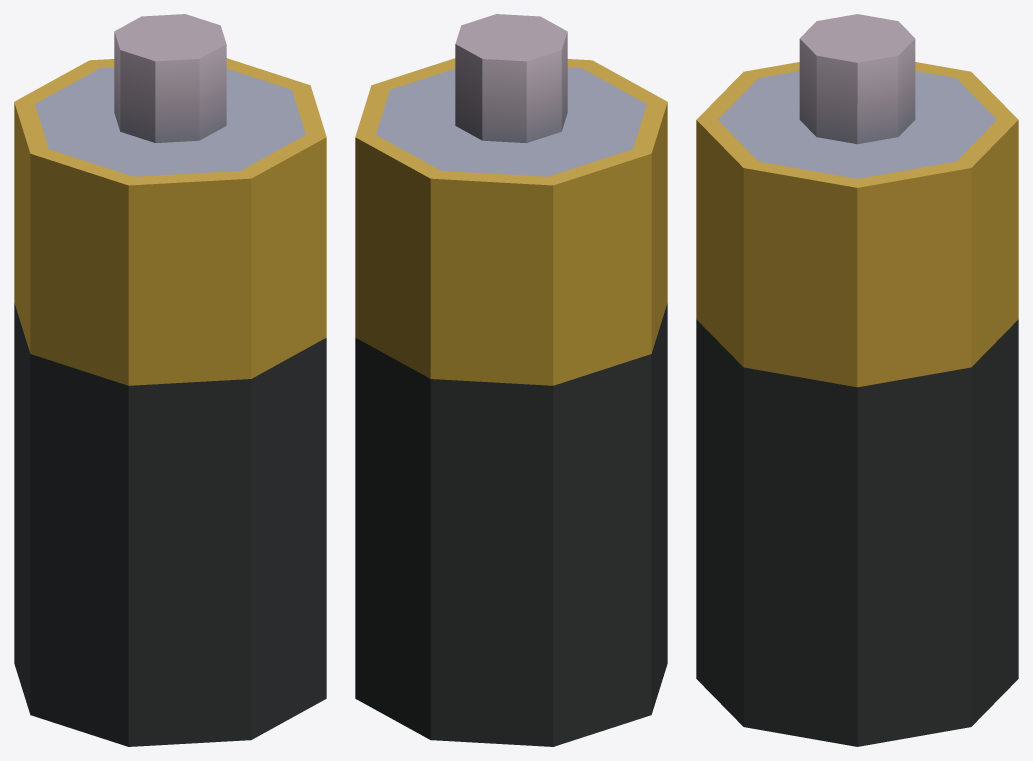
File: battery.fbx
The picture shows the model from 3 angles, left to right: view 1: azimuth 30°, elevation 25°; view 2: azimuth 150°, elevation 25°; view 3: azimuth 270°, elevation 25°; orthographic projection.
Parts seen in each view (by area): view 1: battery; view 2: battery; view 3: battery.
Part boxes in pixels (x1,y1,x2,y2): battery: (14,14,326,746); battery: (355,14,667,746); battery: (696,14,1018,746).
Size of the model in its own units: 200 by 439 by 200.
